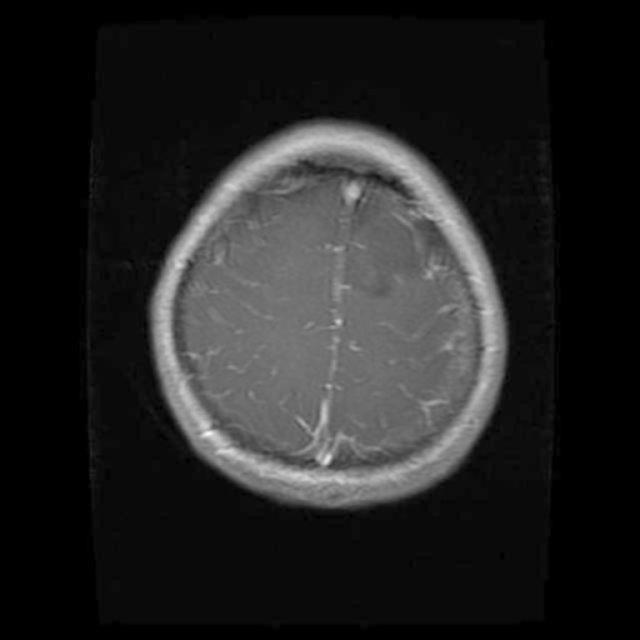pituitary tumor: (355, 208, 436, 294)
